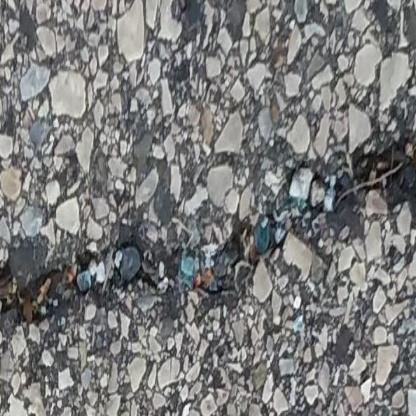Cracks: (0, 112, 416, 328)
